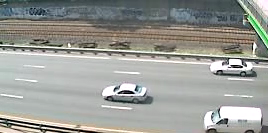car: (198, 103, 267, 133), (100, 81, 151, 105), (208, 57, 255, 79)
